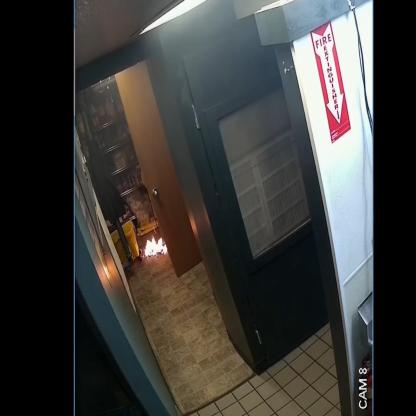fire: (144, 236, 168, 257)
